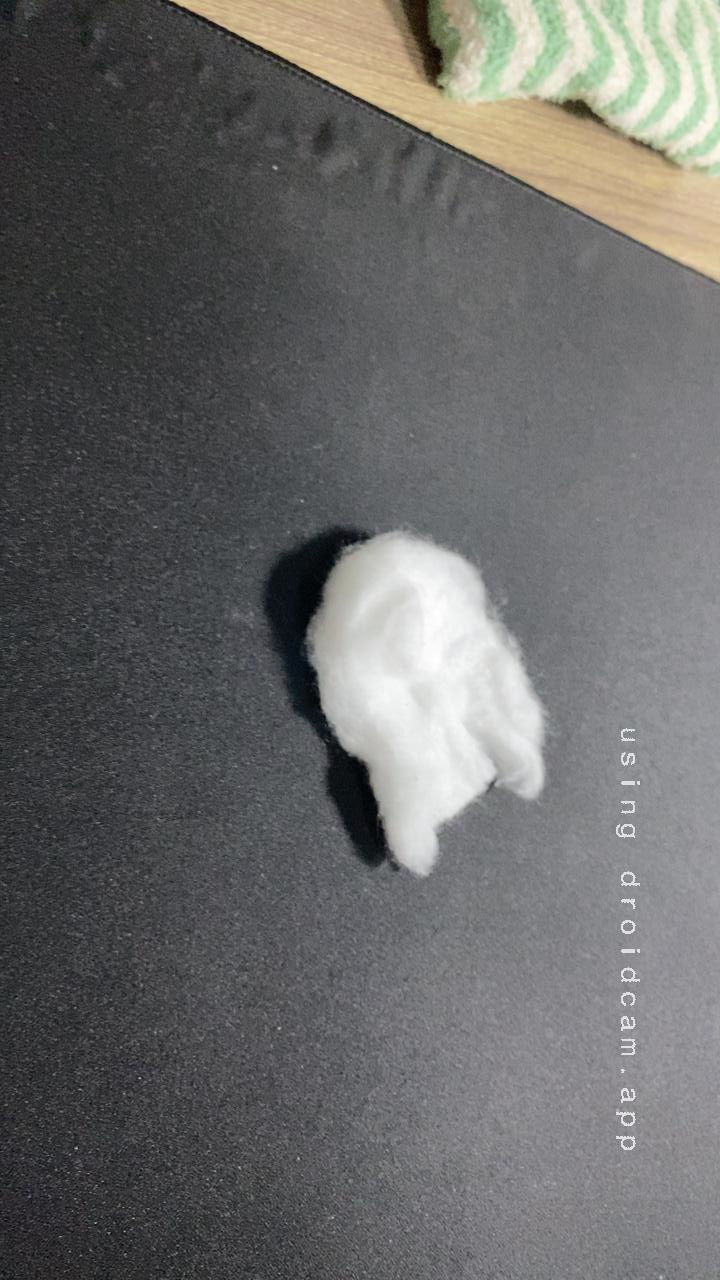cotton: (246, 510, 582, 896)
